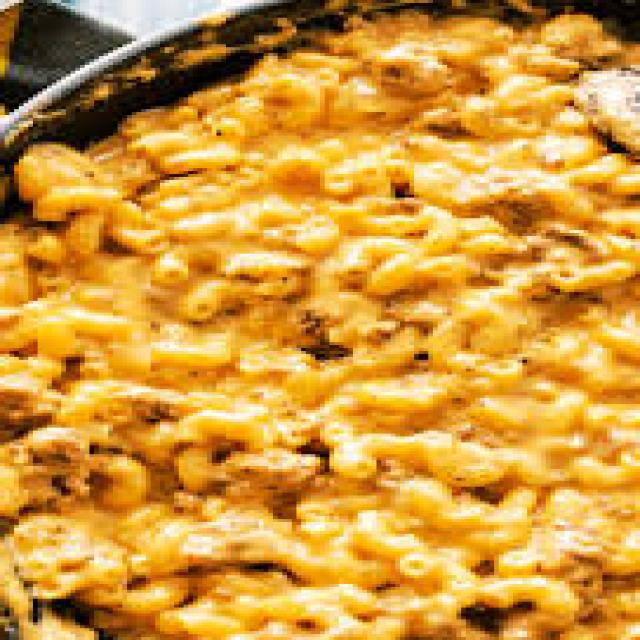inorganic: (0, 25, 638, 632)
